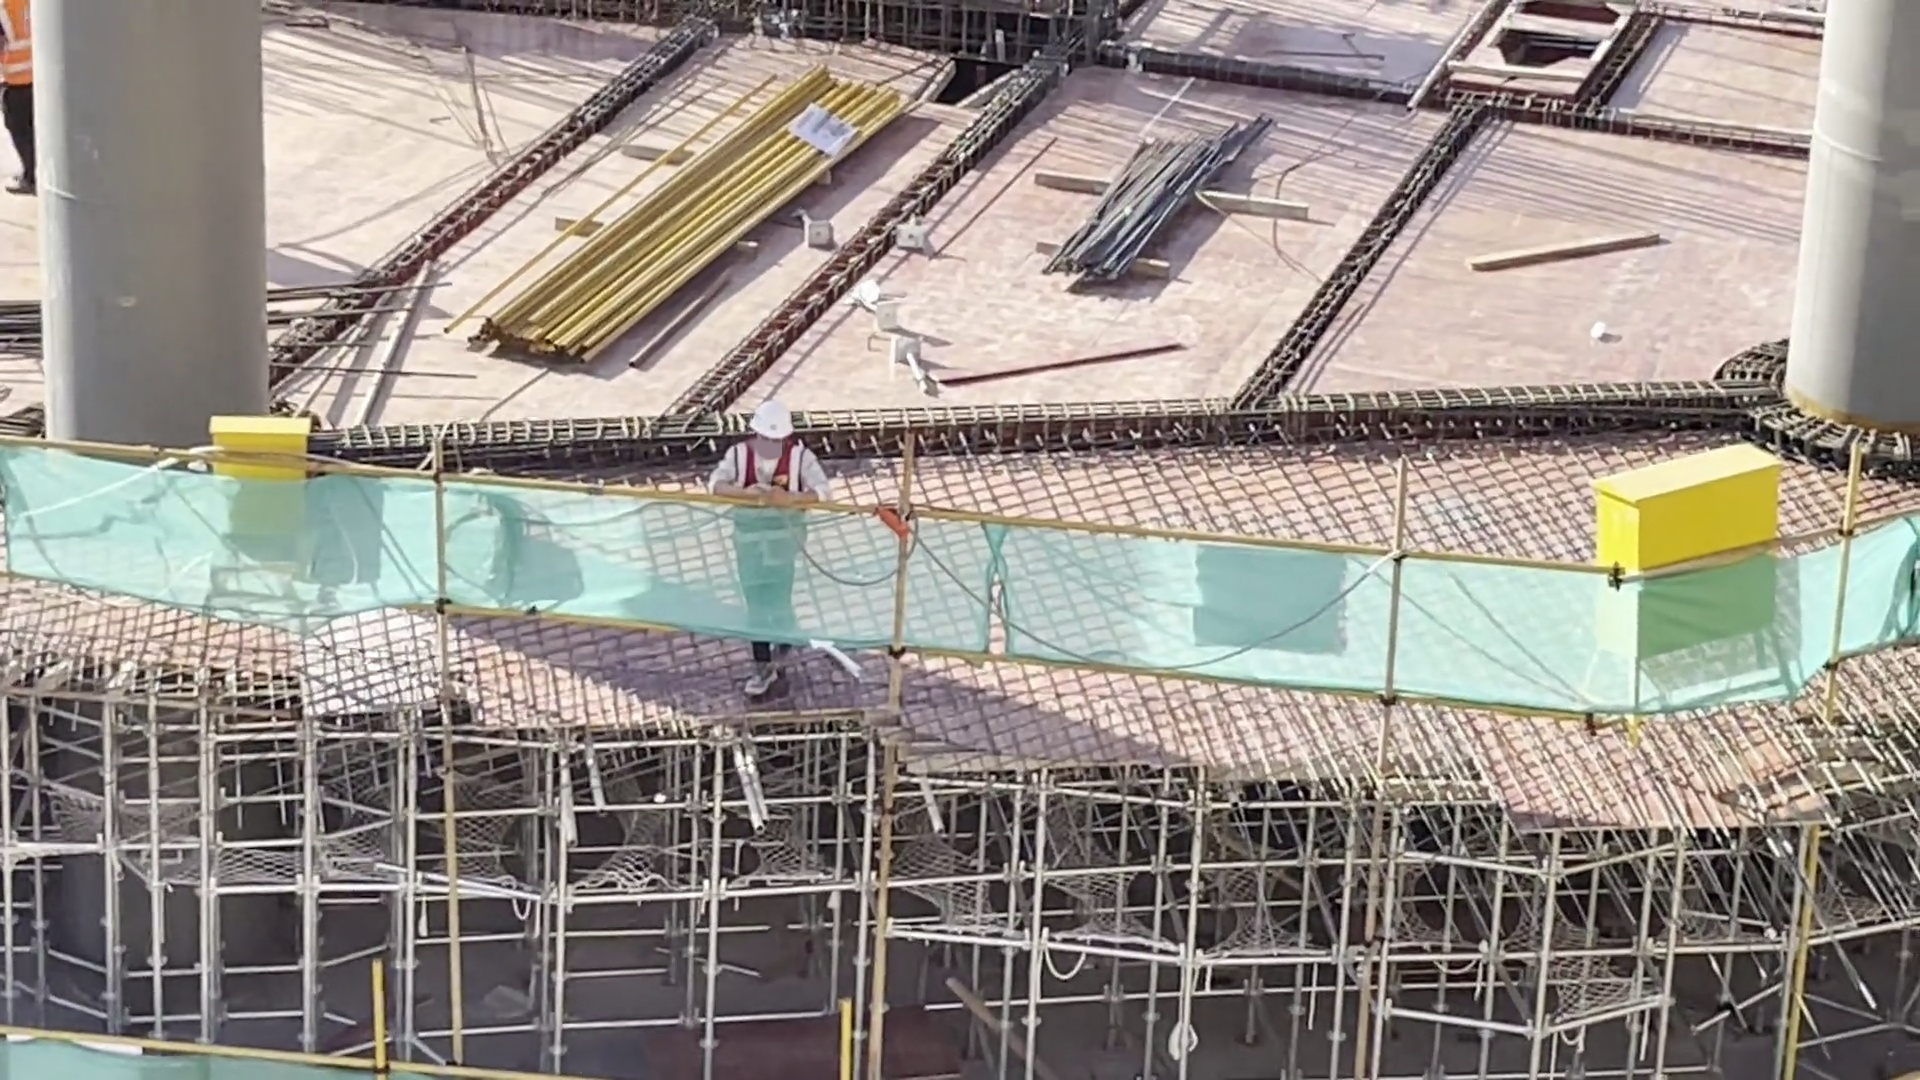ebox: (1595, 434, 1788, 654), (211, 412, 312, 572)
helmet: (742, 394, 793, 444)
person: (721, 406, 832, 698), (1, 1, 41, 205)
vest: (726, 448, 807, 565)
